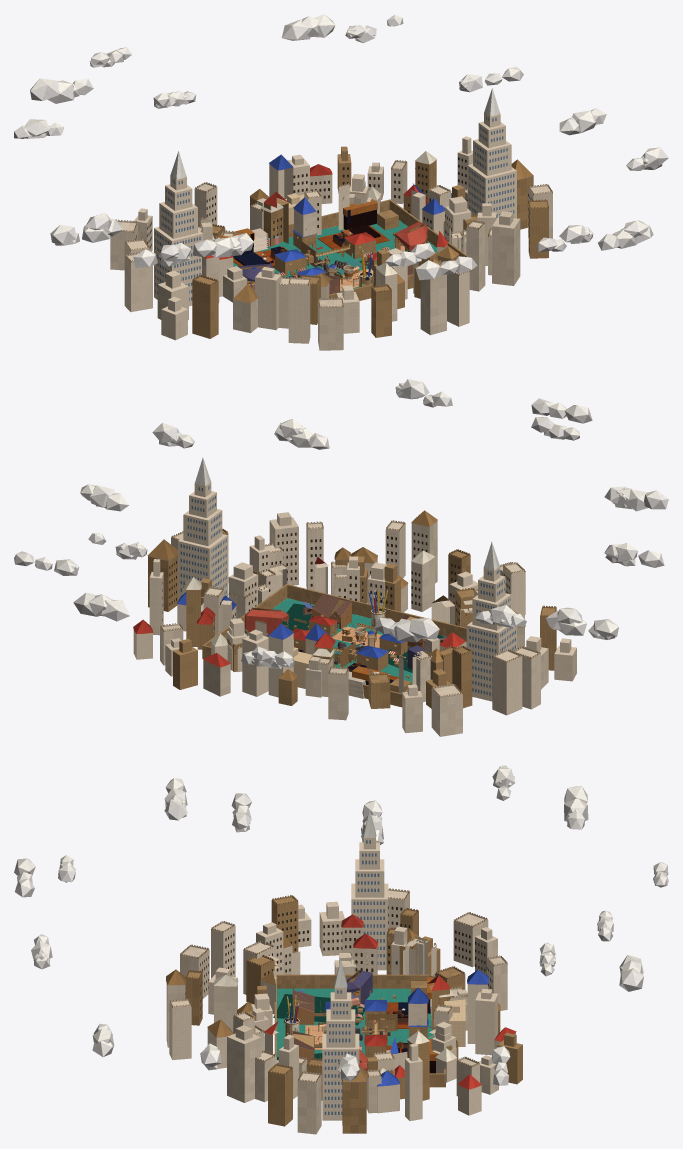
File: desktown_v2_webp.glb
3 views of the same model, one above another, from view 1: azimuth 30°, elevation 25°; view 2: azimuth 150°, elevation 25°; view 3: azimuth 270°, elevation 25° (orthographic). The views are drawn at different scales.
Parts seen in each view (by area): view 1: desktown_v2_far_paper, desktown_v2_far_print, desktown_v2_far_kraft, desktown_v2_play_kraft, desktown_v2_play_paper, desktown_v2_play_print, desktown_v2_play_mat, desktown_v2_far_edge; view 2: desktown_v2_far_paper, desktown_v2_far_print, desktown_v2_far_kraft, desktown_v2_play_kraft, desktown_v2_play_paper, desktown_v2_play_print, desktown_v2_far_edge, desktown_v2_play_mat, desktown_v2_play_felt_green; view 3: desktown_v2_far_paper, desktown_v2_far_print, desktown_v2_far_kraft, desktown_v2_play_kraft, desktown_v2_play_paper, desktown_v2_play_mat, desktown_v2_play_print, desktown_v2_far_edge, desktown_v2_play_felt_green.
Boxes of the visible parts, left/top/right/bottom form: desktown_v2_far_paper: left=110, top=112, right=552, bottom=350; desktown_v2_far_print: left=14, top=14, right=668, bottom=303; desktown_v2_far_kraft: left=192, top=146, right=548, bottom=338; desktown_v2_play_kraft: left=219, top=199, right=466, bottom=300; desktown_v2_play_paper: left=233, top=193, right=427, bottom=291; desktown_v2_play_print: left=233, top=197, right=453, bottom=287; desktown_v2_play_mat: left=233, top=220, right=436, bottom=291; desktown_v2_far_edge: left=115, top=160, right=552, bottom=307; desktown_v2_far_paper: left=133, top=482, right=576, bottom=736; desktown_v2_far_print: left=14, top=379, right=668, bottom=695; desktown_v2_far_kraft: left=148, top=529, right=556, bottom=708; desktown_v2_play_kraft: left=202, top=584, right=466, bottom=707; desktown_v2_play_paper: left=245, top=601, right=446, bottom=688; desktown_v2_play_print: left=204, top=587, right=444, bottom=691; desktown_v2_far_edge: left=161, top=520, right=556, bottom=697; desktown_v2_play_mat: left=244, top=598, right=466, bottom=684; desktown_v2_play_felt_green: left=268, top=603, right=443, bottom=672; desktown_v2_far_paper: left=166, top=838, right=515, bottom=1134; desktown_v2_far_print: left=14, top=765, right=668, bottom=1114; desktown_v2_far_kraft: left=185, top=895, right=522, bottom=1133; desktown_v2_play_kraft: left=274, top=970, right=445, bottom=1087; desktown_v2_play_paper: left=292, top=970, right=465, bottom=1073; desktown_v2_play_mat: left=277, top=988, right=433, bottom=1056; desktown_v2_play_print: left=277, top=975, right=445, bottom=1073; desktown_v2_far_edge: left=170, top=888, right=507, bottom=1082; desktown_v2_play_felt_green: left=273, top=994, right=364, bottom=1060.
Bounding box in the file's own units: 311 × 85.1 × 317.
8 materials, 8 textured.
